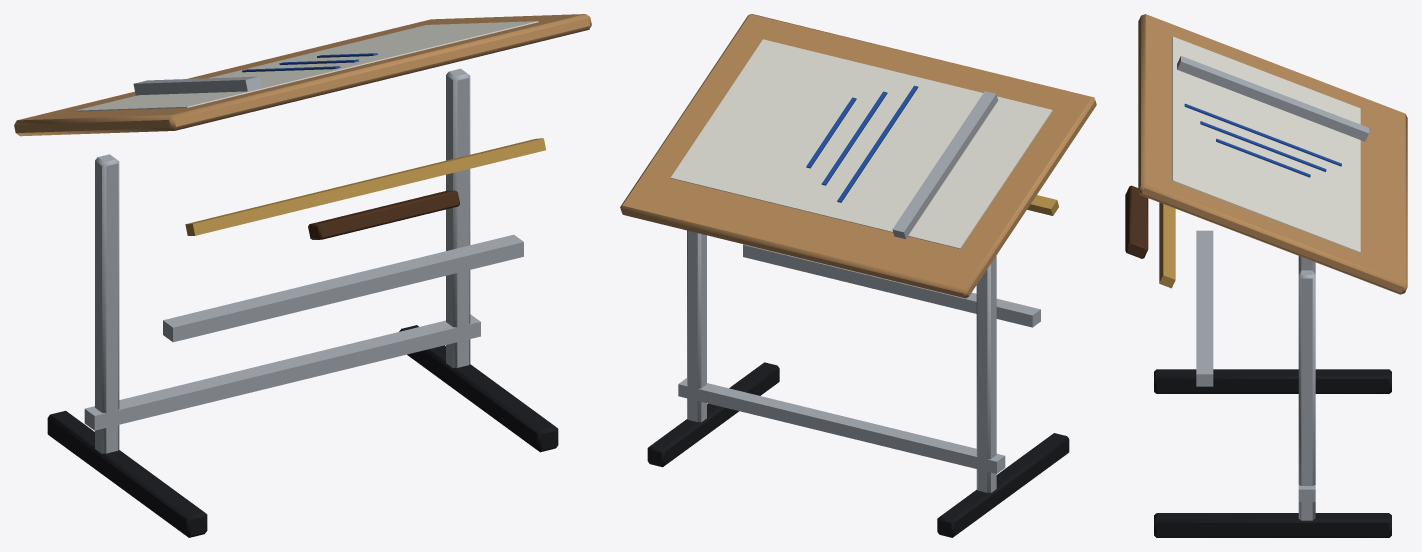
Rendered from desk_drafting_table.glb.
The picture shows the model from 3 angles, left to right: view 1: azimuth 30°, elevation 25°; view 2: azimuth 150°, elevation 25°; view 3: azimuth 270°, elevation 25°; orthographic projection. The views are drawn at different scales.
Visible parts, largest first — view 1: desk_drafting_table; view 2: desk_drafting_table; view 3: desk_drafting_table.
Part boxes in pixels (<box>): desk_drafting_table: <box>14,14,591,537</box>; desk_drafting_table: <box>620,14,1096,537</box>; desk_drafting_table: <box>1125,14,1407,537</box>.
Size of the model in its own units: 1.2 by 1.18 by 0.8288.
